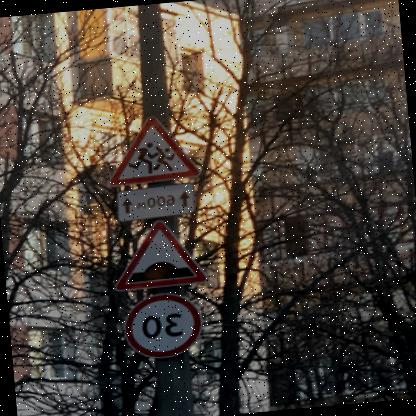speedlimit: (122, 290, 206, 360)
